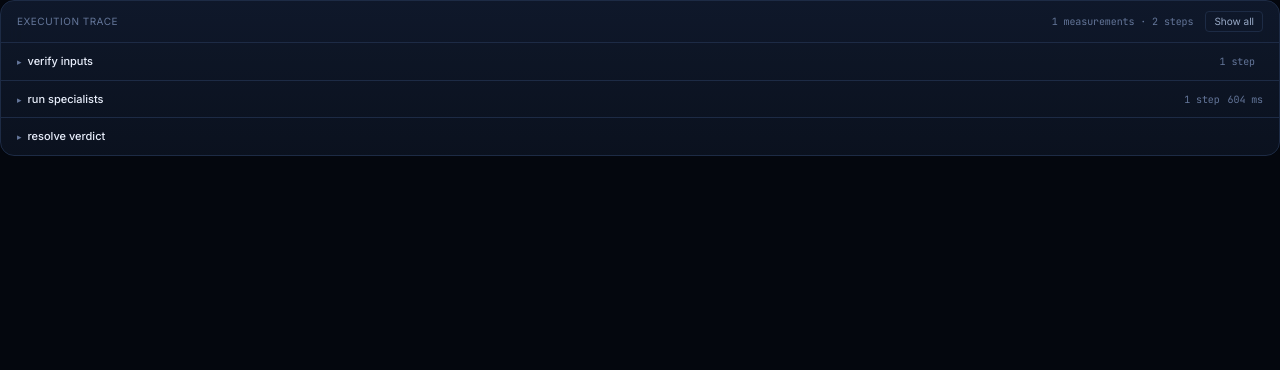
Test case: RunTracePanel › names the tool, its version, and how it arrives at its output
This screenshot has width=1280, height=370.
Step 1. Click the button "Show all" → coordinates (1234, 22), box [1205,11,1263,32]
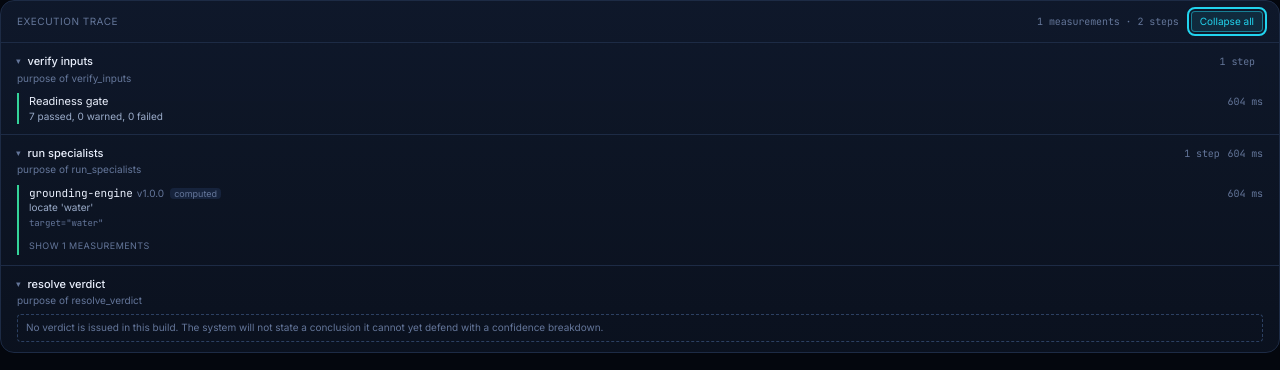
Now the text "grounding-engine" is shown, box [29,186,133,200]
Now the text "v1.0.0" is shown, box [137,187,164,199]
Now the text "computed" is shown, box [170,188,221,199]
